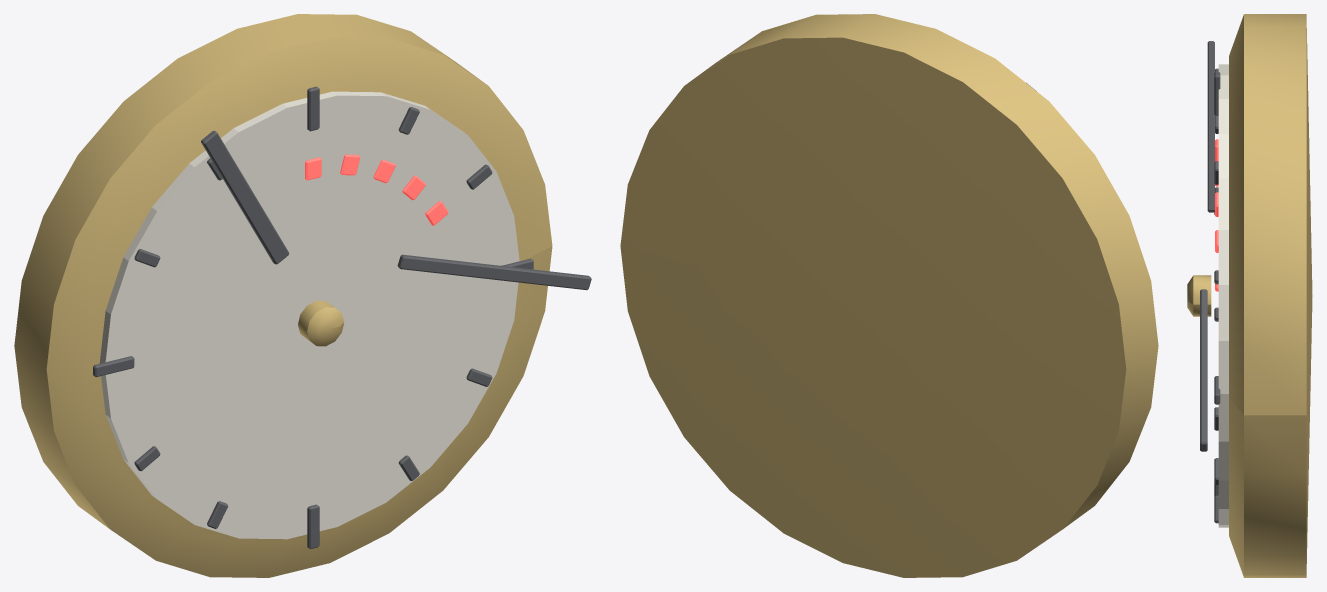
Rendered from escape-room-and-puzzle-venue-countdown-wall-clock-efd2767c__35778.glb.
The picture shows the model from 3 angles, left to right: view 1: azimuth 30°, elevation 25°; view 2: azimuth 150°, elevation 25°; view 3: azimuth 270°, elevation 25°; orthographic projection. The views are drawn at different scales.
Visible parts, largest first — view 1: countdown-wall-clock; view 2: countdown-wall-clock; view 3: countdown-wall-clock.
Boxes of the visible parts, x1=… form: countdown-wall-clock: x1=14, y1=14, x2=591, y2=577; countdown-wall-clock: x1=620, y1=14, x2=1158, y2=577; countdown-wall-clock: x1=1187, y1=14, x2=1312, y2=577.
Size of the model in its own units: 0.3931 by 0.3772 by 0.084.
